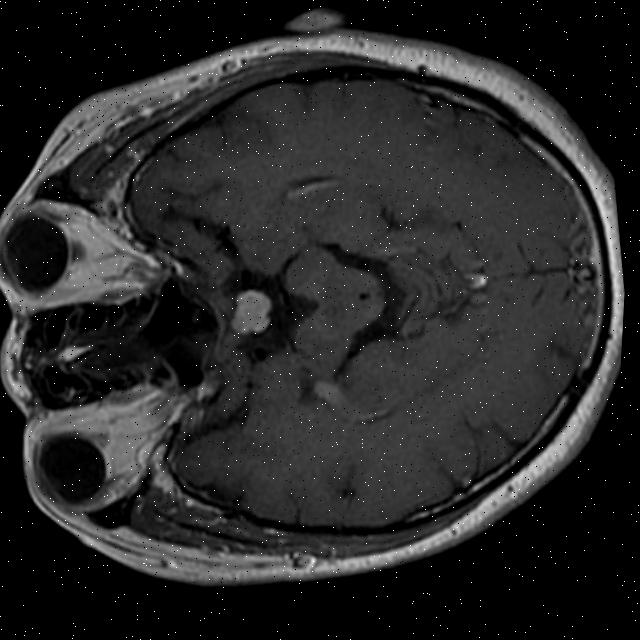Pituitary: (224, 288, 275, 338)
